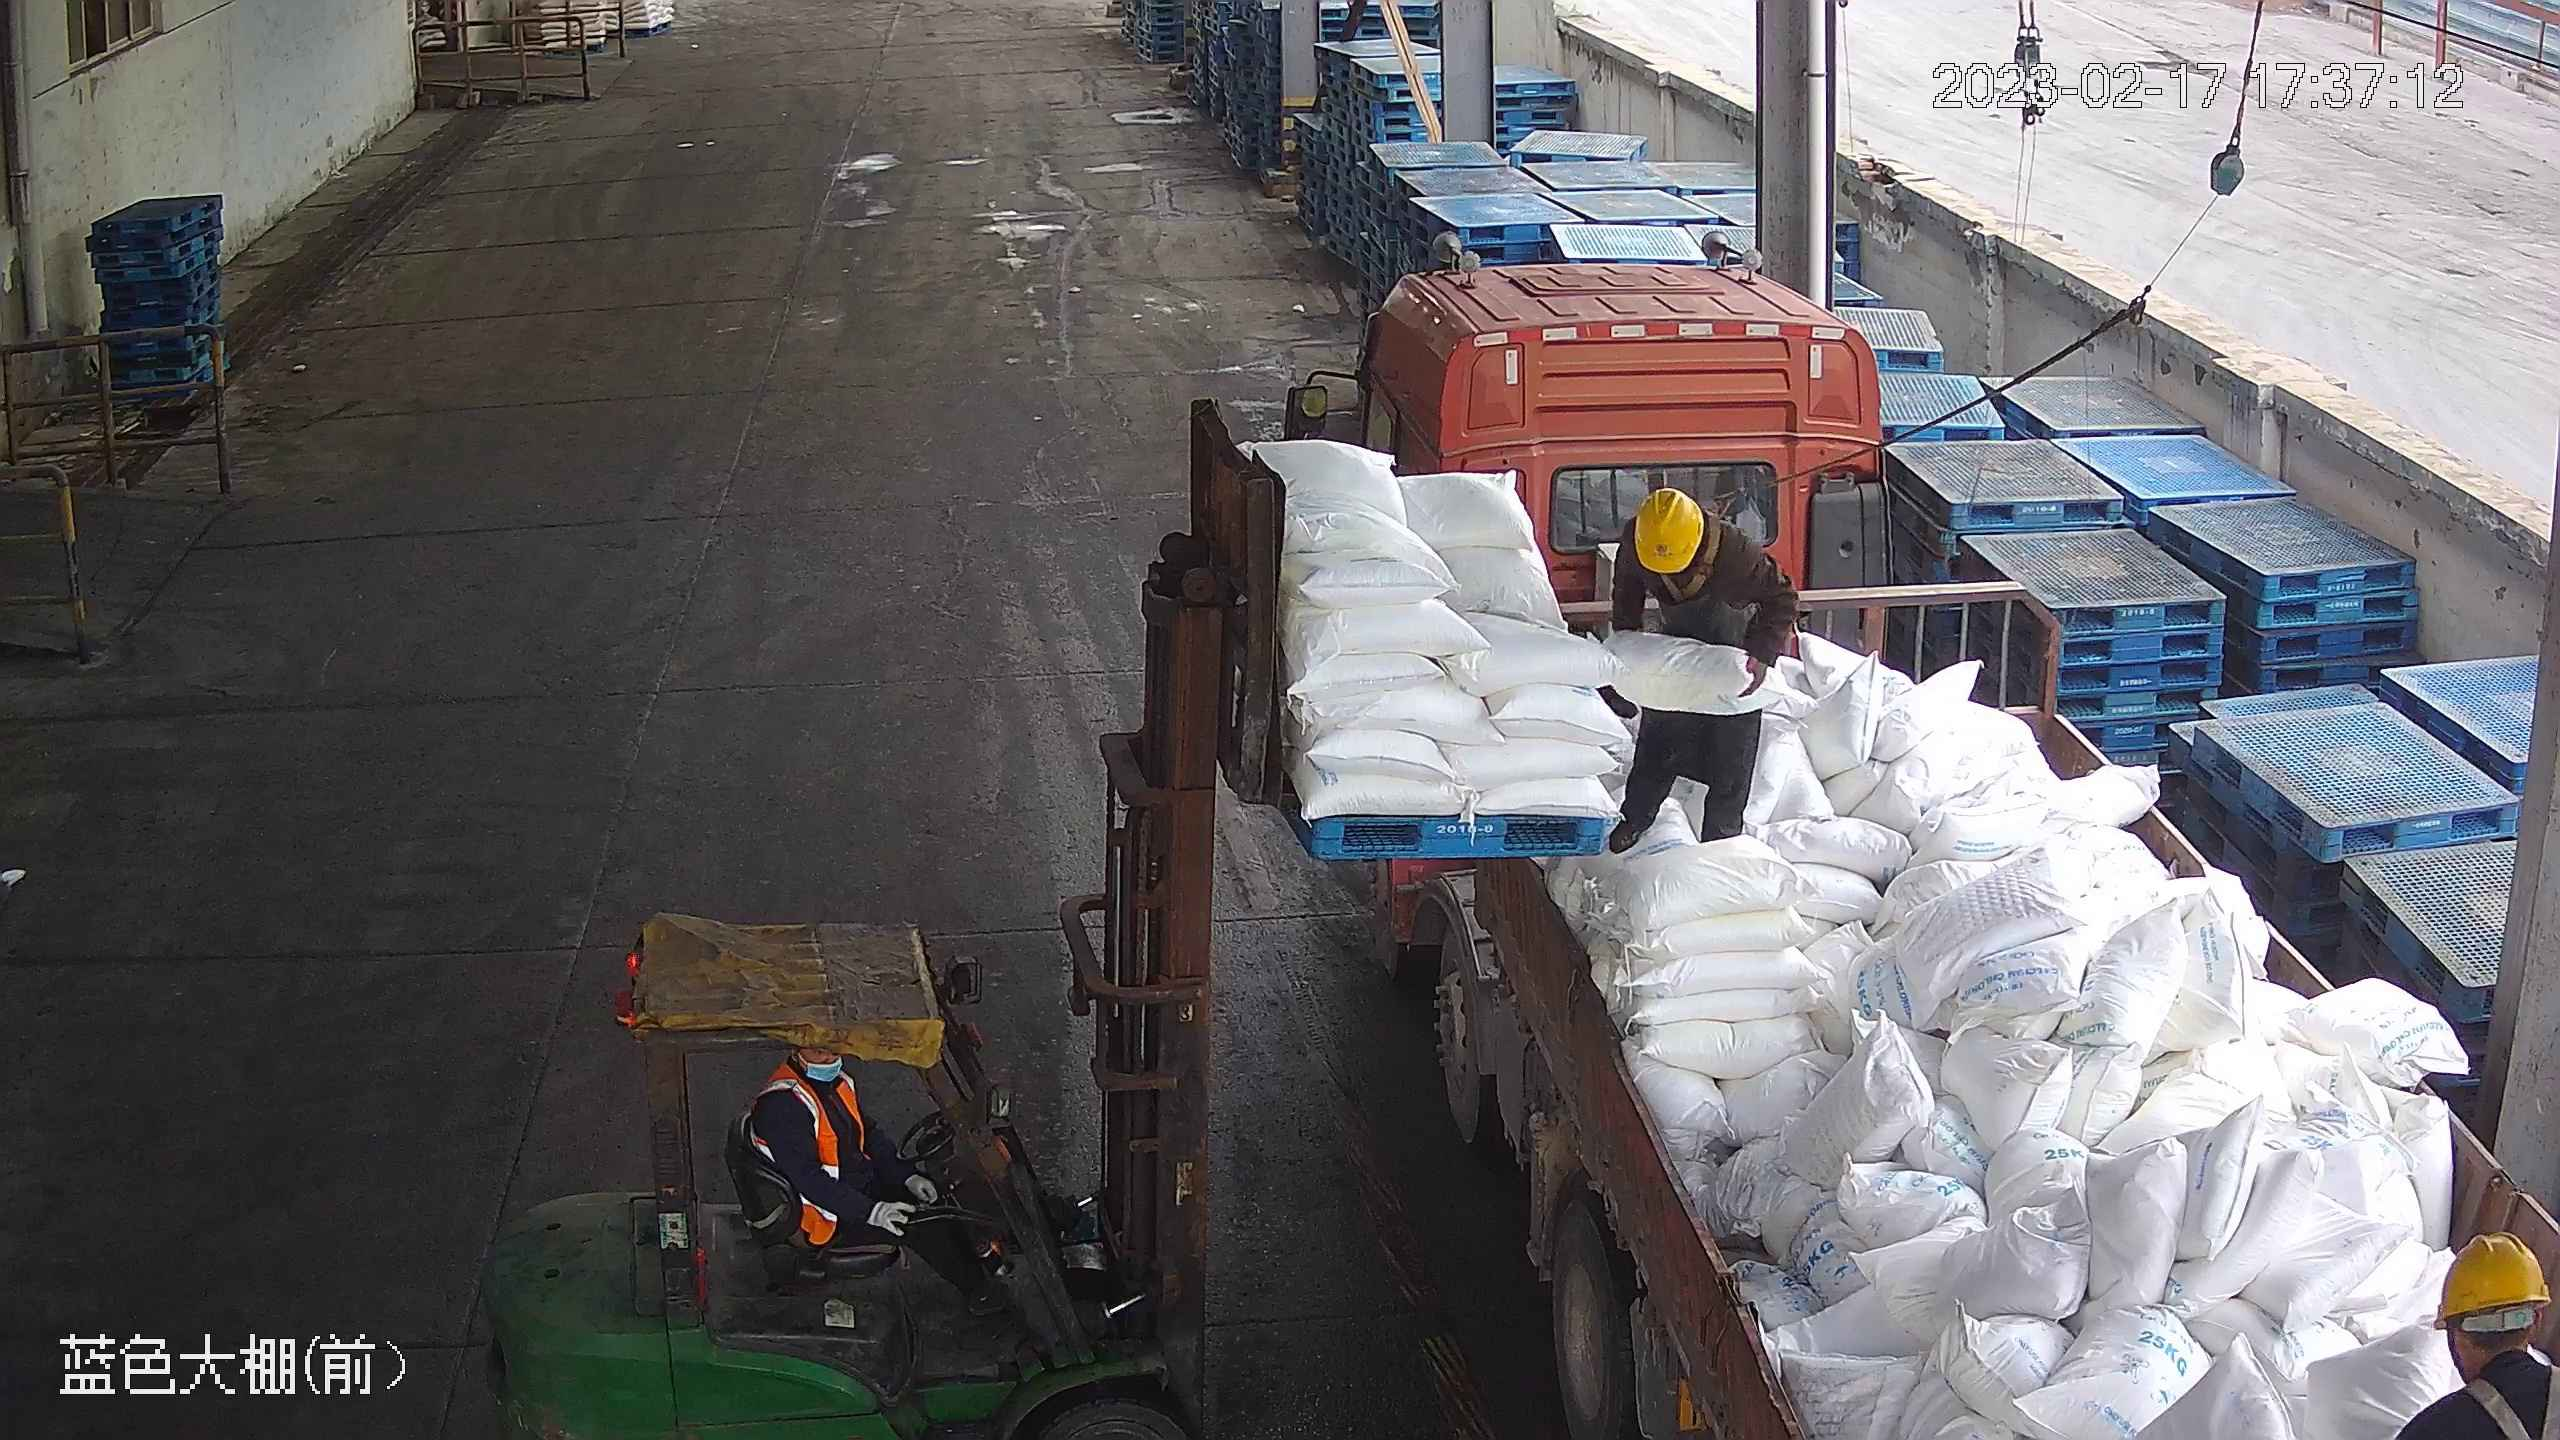belt: (1650, 504, 1751, 604), (2483, 1353, 2558, 1440)
head: (2393, 1232, 2560, 1440), (1614, 483, 1767, 593), (746, 1037, 878, 1144)
helmet: (2431, 1232, 2556, 1327), (1636, 484, 1709, 576)
people: (1598, 483, 1796, 853), (740, 1036, 977, 1332)
truck: (1275, 230, 2560, 1440)
